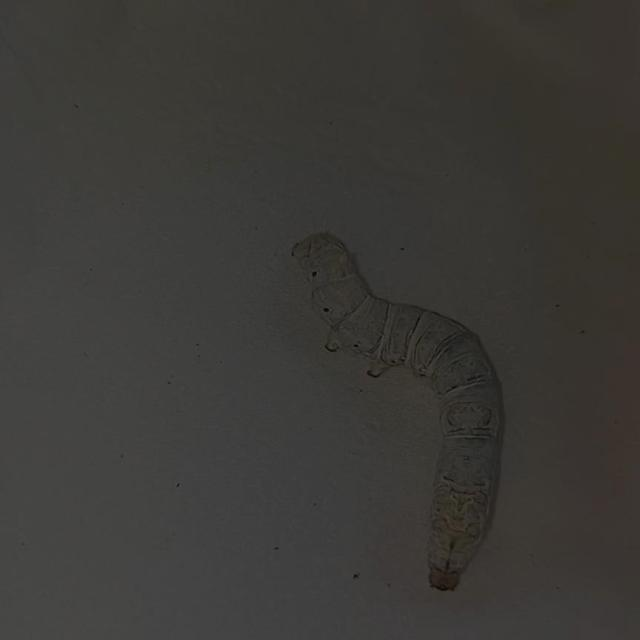Healthy: (249, 196, 539, 617)
